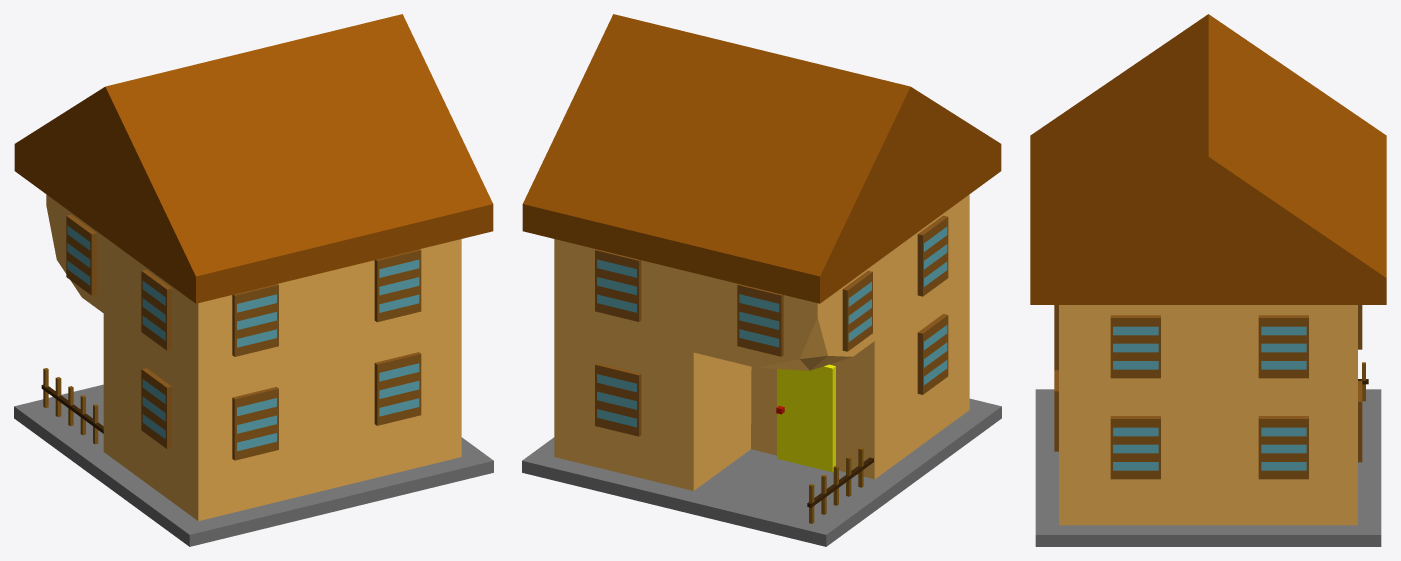
File: House19.fbx
The picture shows the model from 3 angles, left to right: view 1: azimuth 30°, elevation 25°; view 2: azimuth 150°, elevation 25°; view 3: azimuth 270°, elevation 25°; orthographic projection.
Visible parts, largest first — view 1: House.019; view 2: House.019; view 3: House.019.
Boxes of the visible parts, left/top/right/bottom form: House.019: left=14, top=14, right=493, bottom=546; House.019: left=522, top=14, right=1001, bottom=546; House.019: left=1030, top=14, right=1386, bottom=546.
Size of the model in its own units: 713 by 885 by 736.
